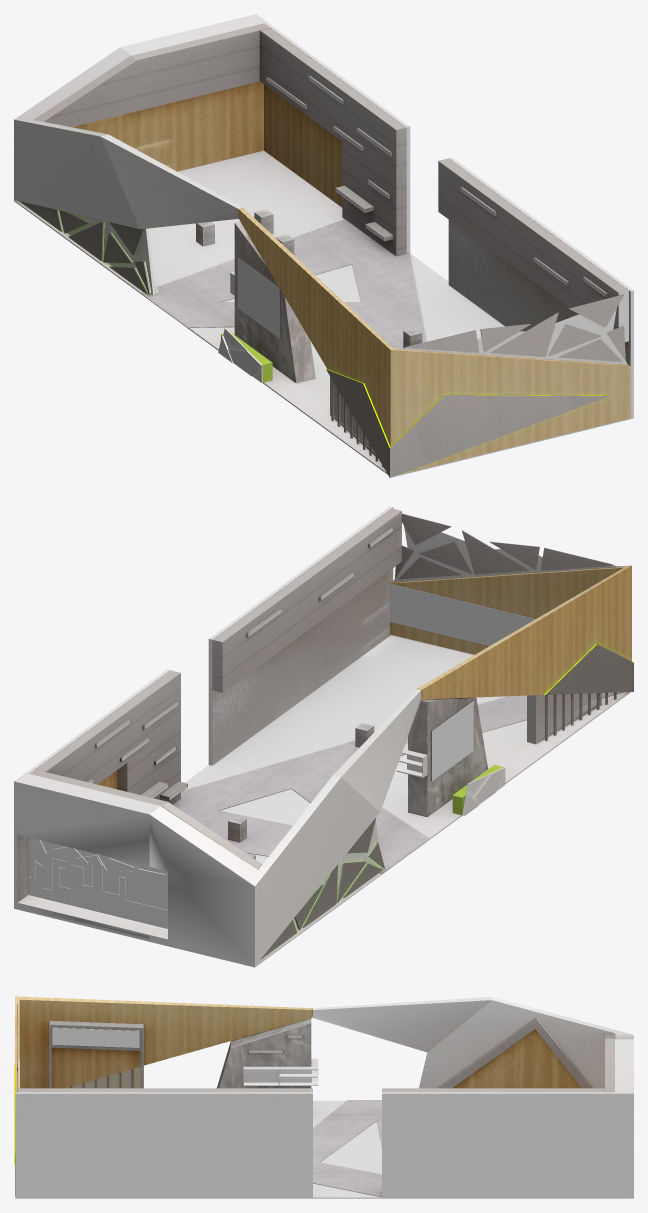
3 renders of one model, top to bottom at view 1: azimuth 30°, elevation 25°; view 2: azimuth 150°, elevation 25°; view 3: azimuth 270°, elevation 25°, orthographic. The views are drawn at different scales.
Parts seen in each view (by area): view 1: Box001; view 2: Box001; view 3: Box001.
Boxes of the visible parts, bbox=[...] form: Box001: bbox=[14, 14, 633, 477]; Box001: bbox=[14, 506, 633, 967]; Box001: bbox=[14, 996, 633, 1198].
Bounding box in the file's own units: 10141 × 5063 × 27054.
Materials: 1 (1 with a texture image).
